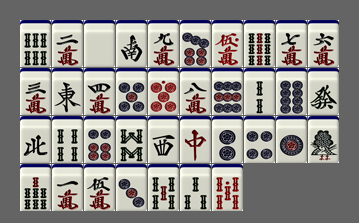0m: (212, 20, 243, 67)
0p: (148, 68, 179, 115)
0s: (212, 164, 243, 211)
1m: (52, 164, 83, 211)
1p: (276, 116, 307, 163)
1s: (308, 116, 339, 163)
1z: (52, 68, 83, 115)
2m: (52, 20, 83, 67)
2p: (212, 116, 243, 163)
2s: (244, 68, 275, 115)
2z: (116, 20, 147, 67)
3m: (20, 68, 51, 115)
3p: (116, 164, 147, 211)
3s: (180, 164, 211, 211)
3z: (148, 116, 179, 163)
4m: (84, 68, 115, 115)
4p: (244, 116, 275, 163)
4s: (52, 116, 83, 163)
4z: (20, 116, 51, 163)
5m: (84, 164, 115, 211)
5p: (116, 68, 147, 115)
5s: (148, 164, 179, 211)
5z: (84, 20, 115, 67)
6m: (308, 20, 339, 67)
6p: (84, 116, 115, 163)
6s: (20, 20, 51, 67)
6z: (308, 68, 339, 115)
7m: (276, 20, 307, 67)
7p: (180, 20, 211, 67)
7s: (20, 164, 51, 211)
7z: (180, 116, 211, 163)
8m: (180, 68, 211, 115)
8p: (276, 68, 307, 115)
8s: (116, 116, 147, 163)
9m: (148, 20, 179, 67)
9p: (212, 68, 243, 115)
9s: (244, 20, 275, 67)
